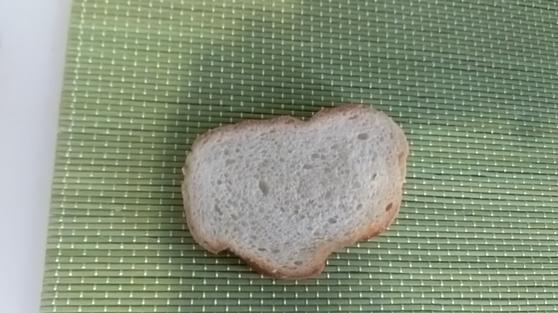white_bread: (184, 106, 409, 274)
